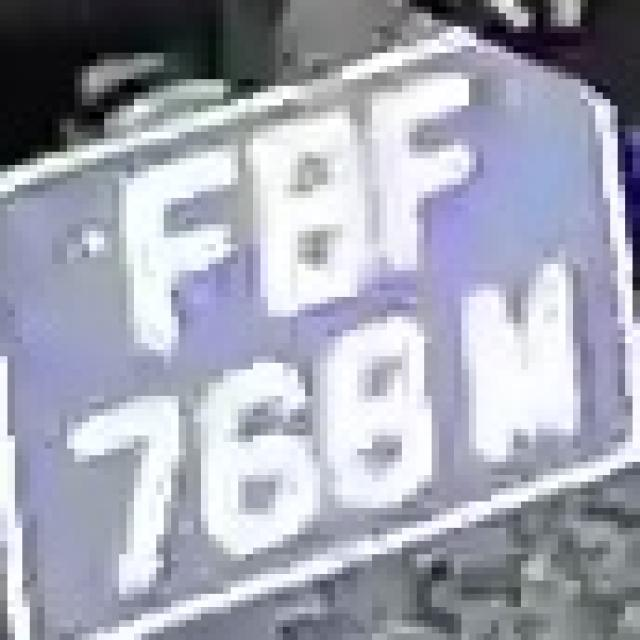6: (186, 336, 327, 594)
7: (52, 369, 201, 607)
8: (313, 297, 454, 528)
B: (216, 79, 364, 343)
F: (357, 53, 484, 297), (112, 112, 230, 363)
M: (439, 237, 618, 468)
